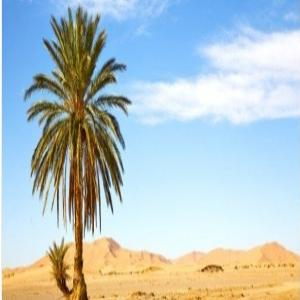palm tree: (24, 3, 132, 299)
